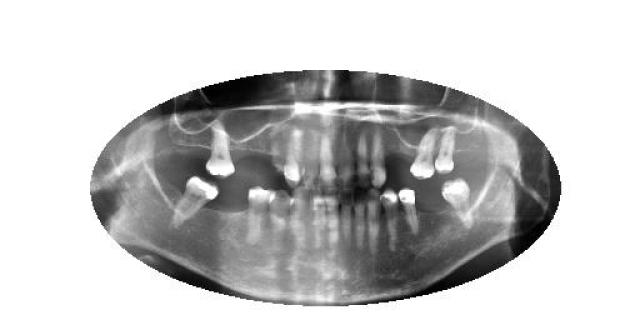Fillings: (170, 178, 218, 224), (380, 189, 400, 250), (399, 189, 419, 236)
